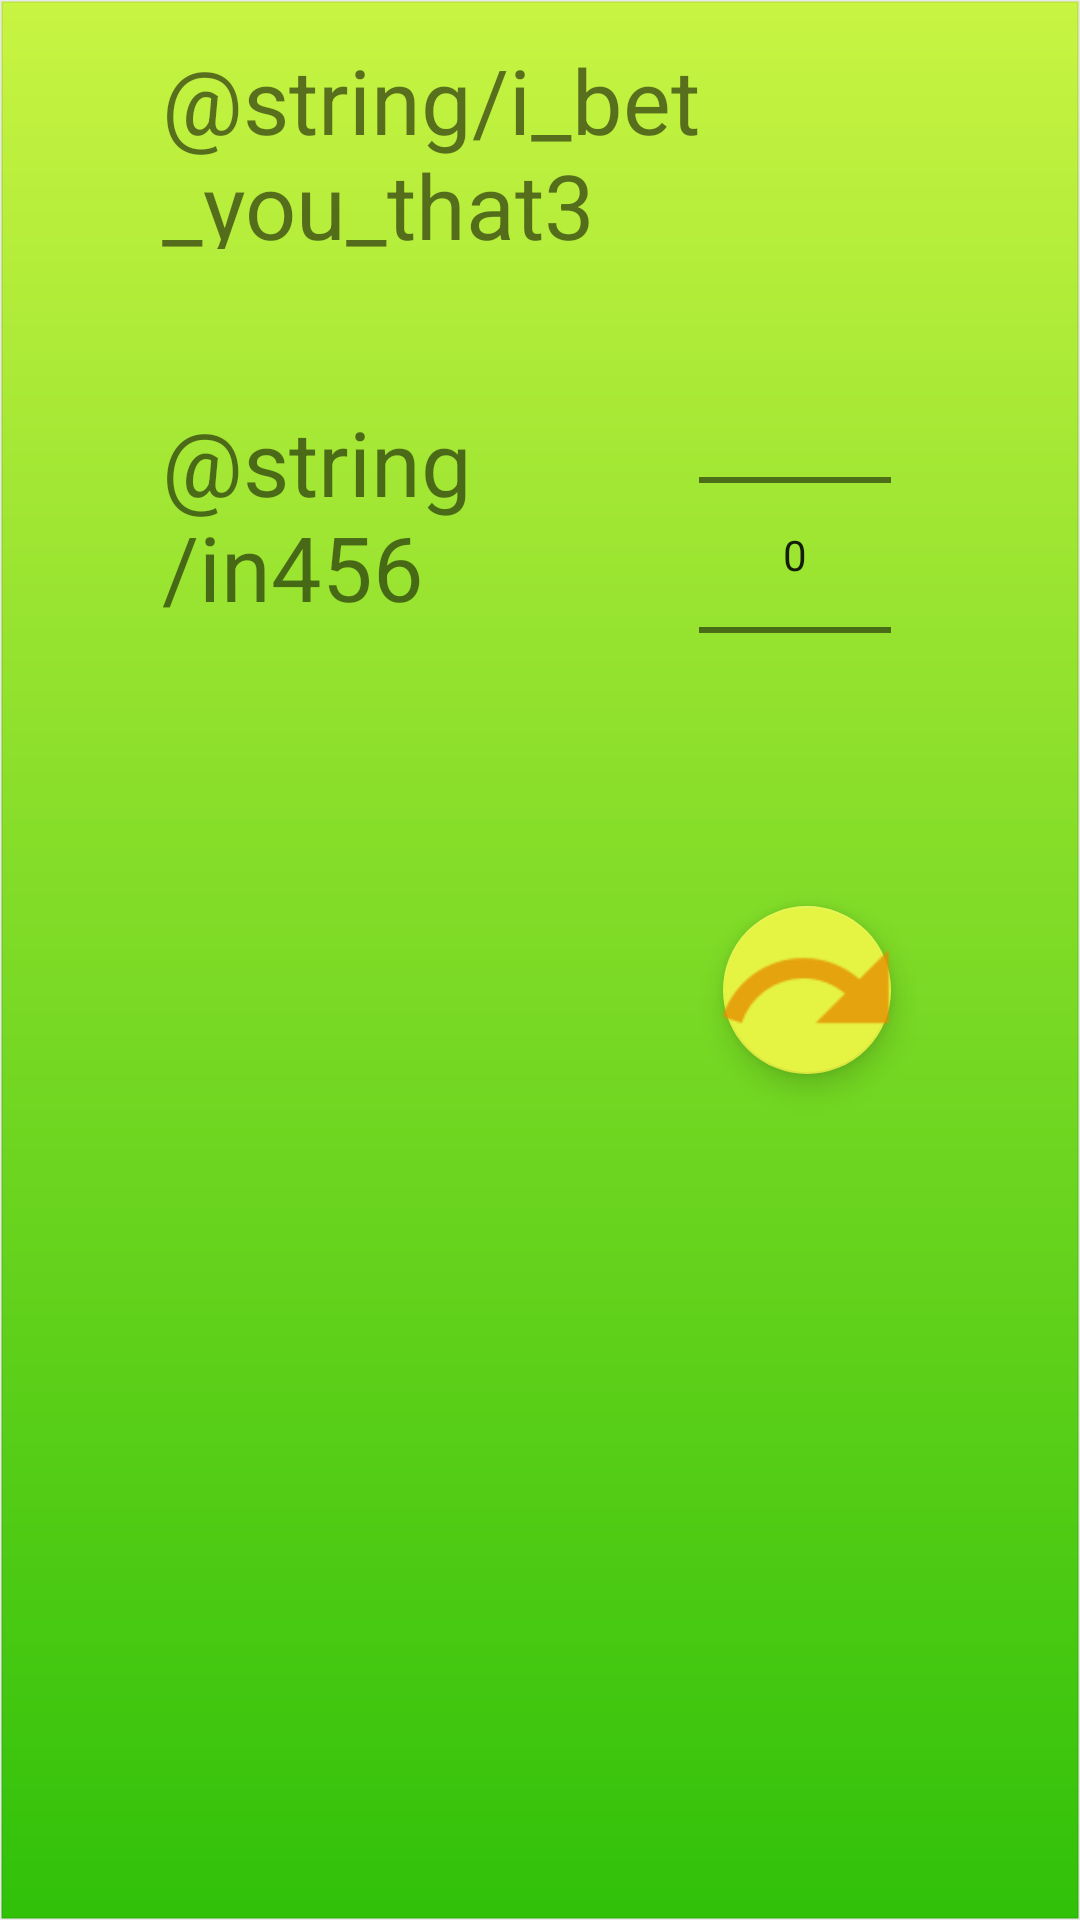

Icon bounding boxes for this 1080 x 1920 phone screenshot, format (x1, y1, x2, y2):
nextpage: (723, 906, 891, 1074)
